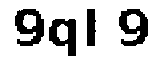9: (114, 6, 153, 52), (15, 3, 45, 51)
I: (84, 6, 102, 52)
q: (48, 15, 79, 60)
